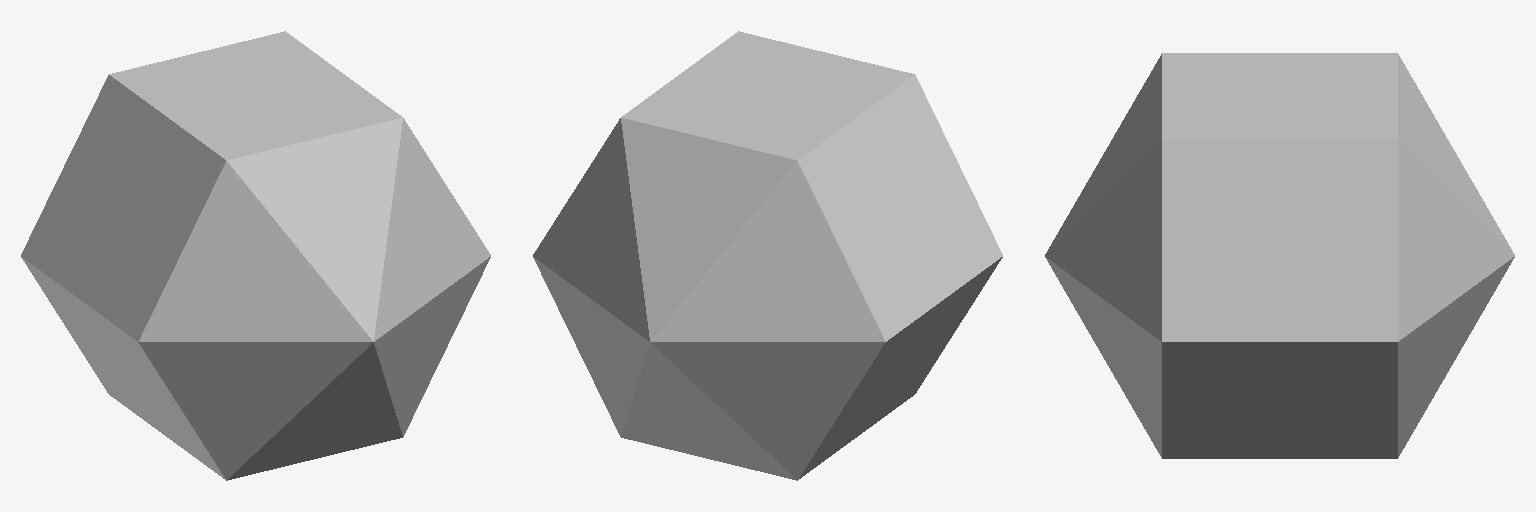
Rendered from 3dhex.obj.
3 renders of one model, left to right at view 1: azimuth 30°, elevation 25°; view 2: azimuth 150°, elevation 25°; view 3: azimuth 270°, elevation 25°, orthographic.
Visible parts, largest first — view 1: Sphere; view 2: Sphere; view 3: Sphere.
Part boxes in pixels (left/top/right/bottom): Sphere: left=21, top=31, right=490, bottom=480; Sphere: left=533, top=31, right=1002, bottom=480; Sphere: left=1045, top=53, right=1514, bottom=458.
Size of the model in its own units: 1.73 by 1.5 by 2.